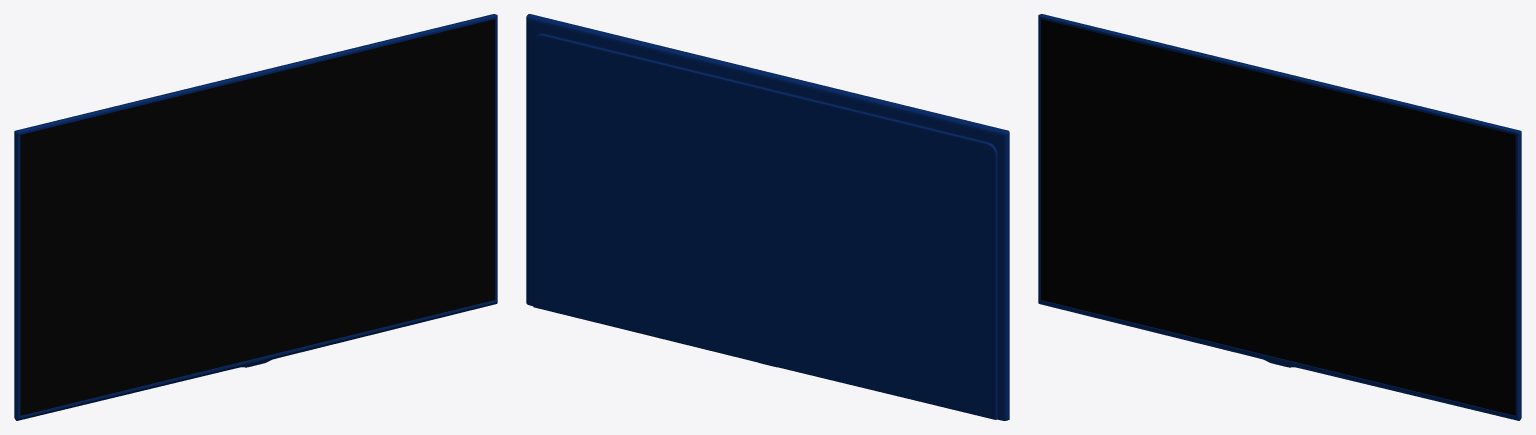
3 views of the same model, side by side, from view 1: azimuth 30°, elevation 25°; view 2: azimuth 150°, elevation 25°; view 3: azimuth 330°, elevation 25° (orthographic).
Parts seen in each view (by area): view 1: LCD_Screen, TV_Bezel, TV_Backing; view 2: TV_Backing, TV_Bezel; view 3: LCD_Screen, TV_Bezel, TV_Backing.
Part boxes in pixels (x1,y1,x2,y2): LCD_Screen: (20,19,494,415); TV_Bezel: (15,14,497,420); TV_Backing: (14,14,495,419); TV_Backing: (526,14,1009,420); TV_Bezel: (528,14,1009,419); LCD_Screen: (1041,19,1515,415); TV_Bezel: (1038,14,1520,420); TV_Backing: (1040,14,1521,419).
Bounding box in the file's own units: 742 × 430 × 14.01.
